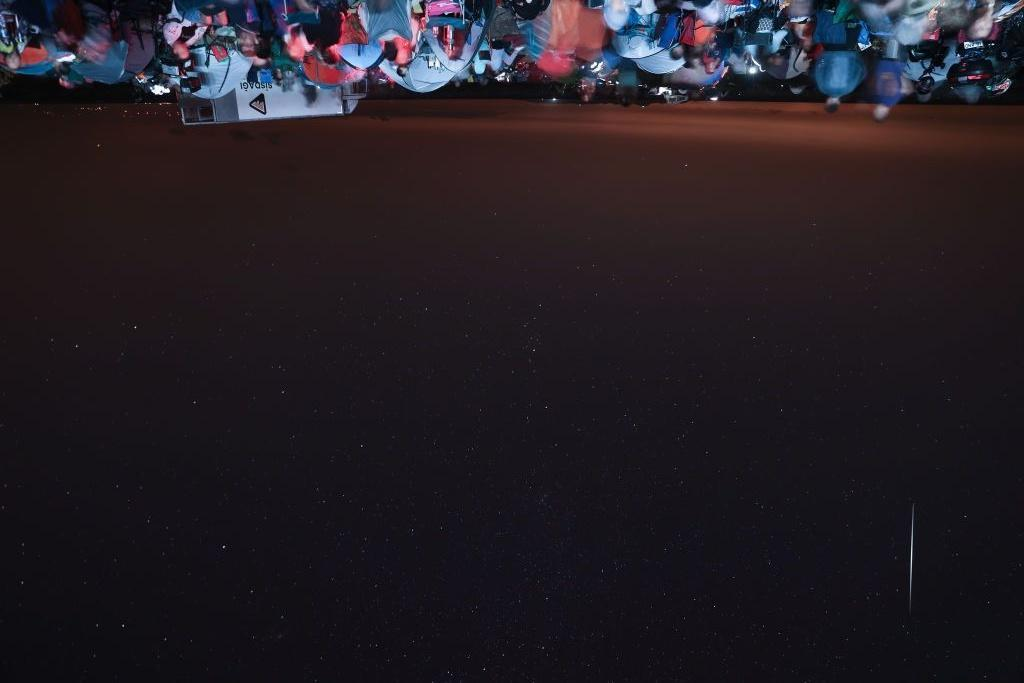meteorite: (889, 490, 932, 623)
